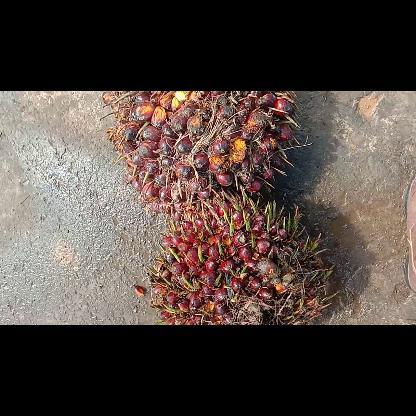Kurang masak: (145, 186, 334, 324)
TBS masak: (103, 90, 299, 218)
